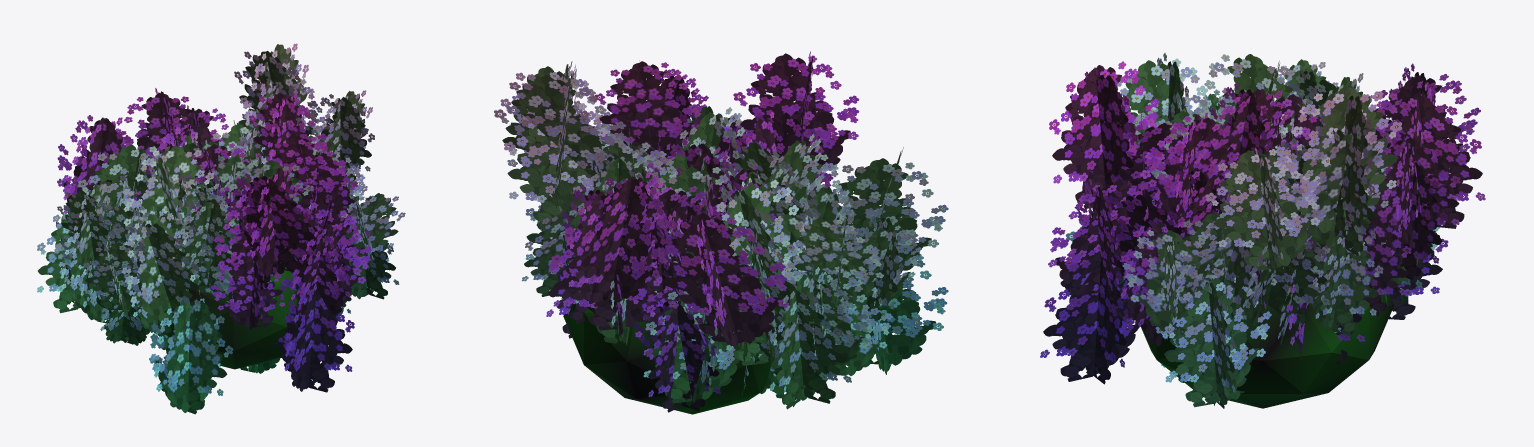
File: nat_bush_flowering_a_LOD0.glb
3 renders of one model, left to right at view 1: azimuth 30°, elevation 25°; view 2: azimuth 150°, elevation 25°; view 3: azimuth 270°, elevation 25°, orthographic. The views are drawn at different scales.
Parts seen in each view (by area): view 1: geometry_0; view 2: geometry_0; view 3: geometry_0.
Part boxes in pixels (left/top/right/bottom): geometry_0: left=37, top=43, right=405, bottom=414; geometry_0: left=494, top=51, right=948, bottom=414; geometry_0: left=1040, top=53, right=1485, bottom=408.
Bounding box in the file's own units: 1.72 × 1.28 × 1.68.
Materials: 1 (1 with a texture image).
